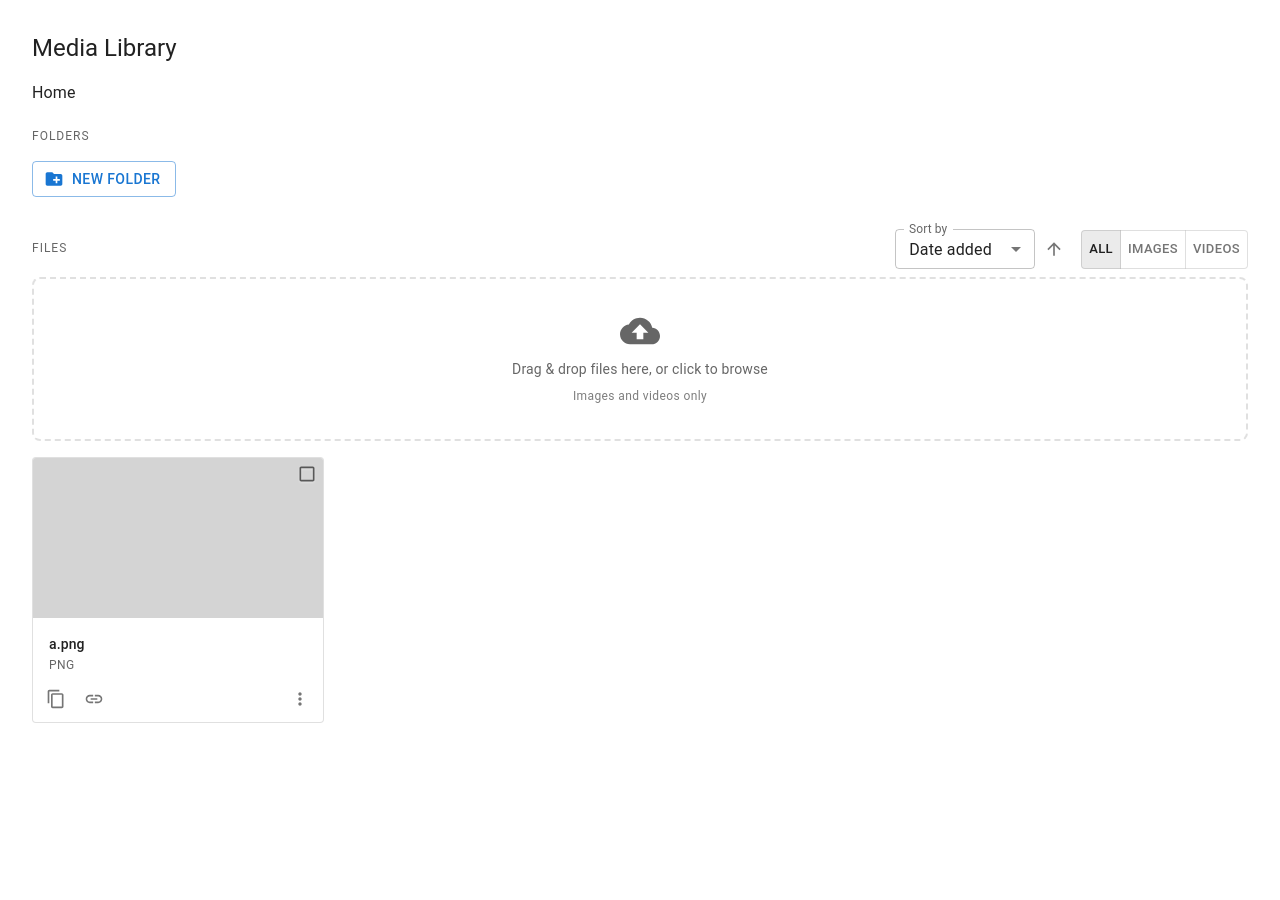
MediaPage › opens the delete confirmation dialog for a file from the more menu
Expected: the heading "a.png" is shown, [49,636,85,652]
Click the button named "More actions": (300, 699) [285,684,315,714]
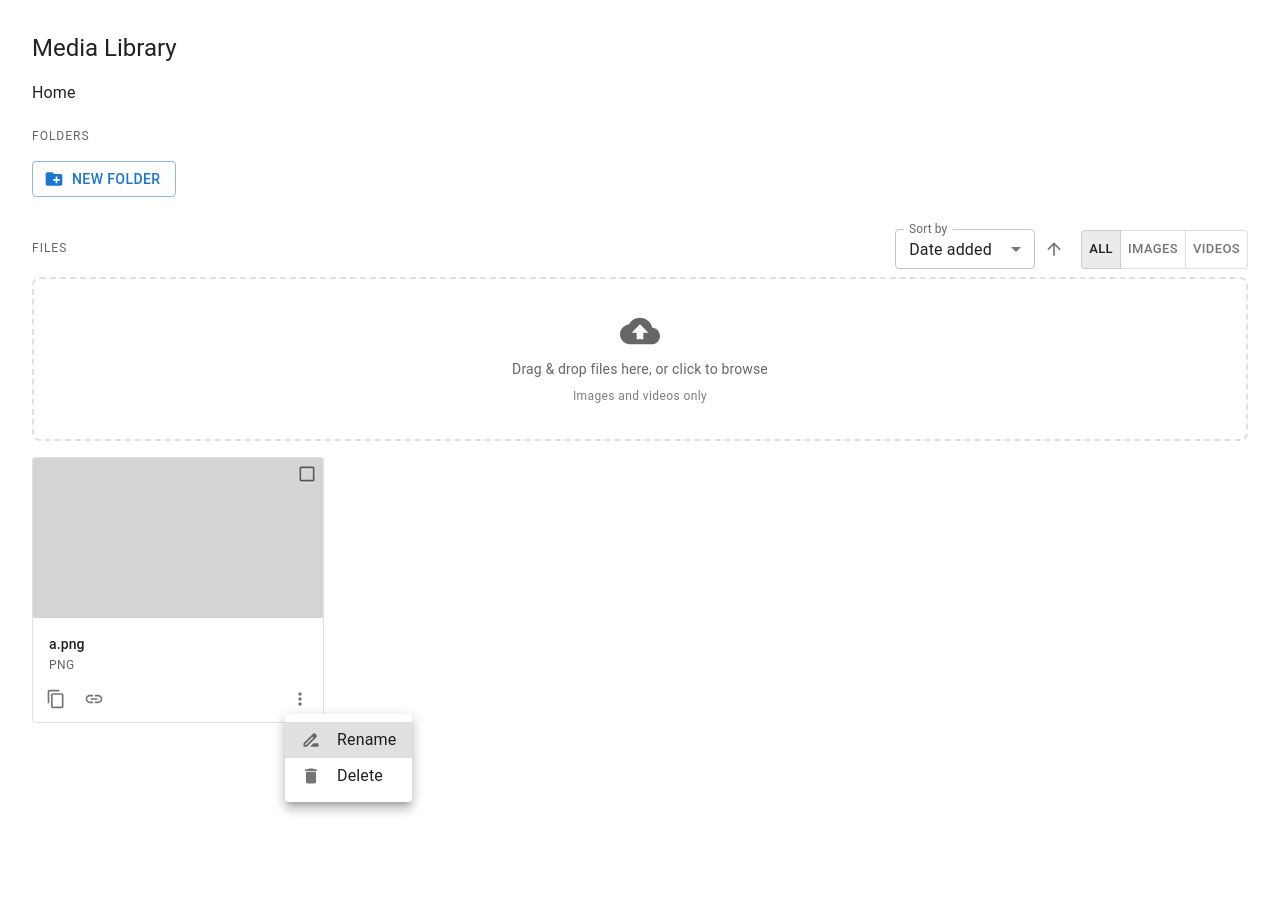
Click the menu item "Delete": (342, 776) [301,766,383,786]
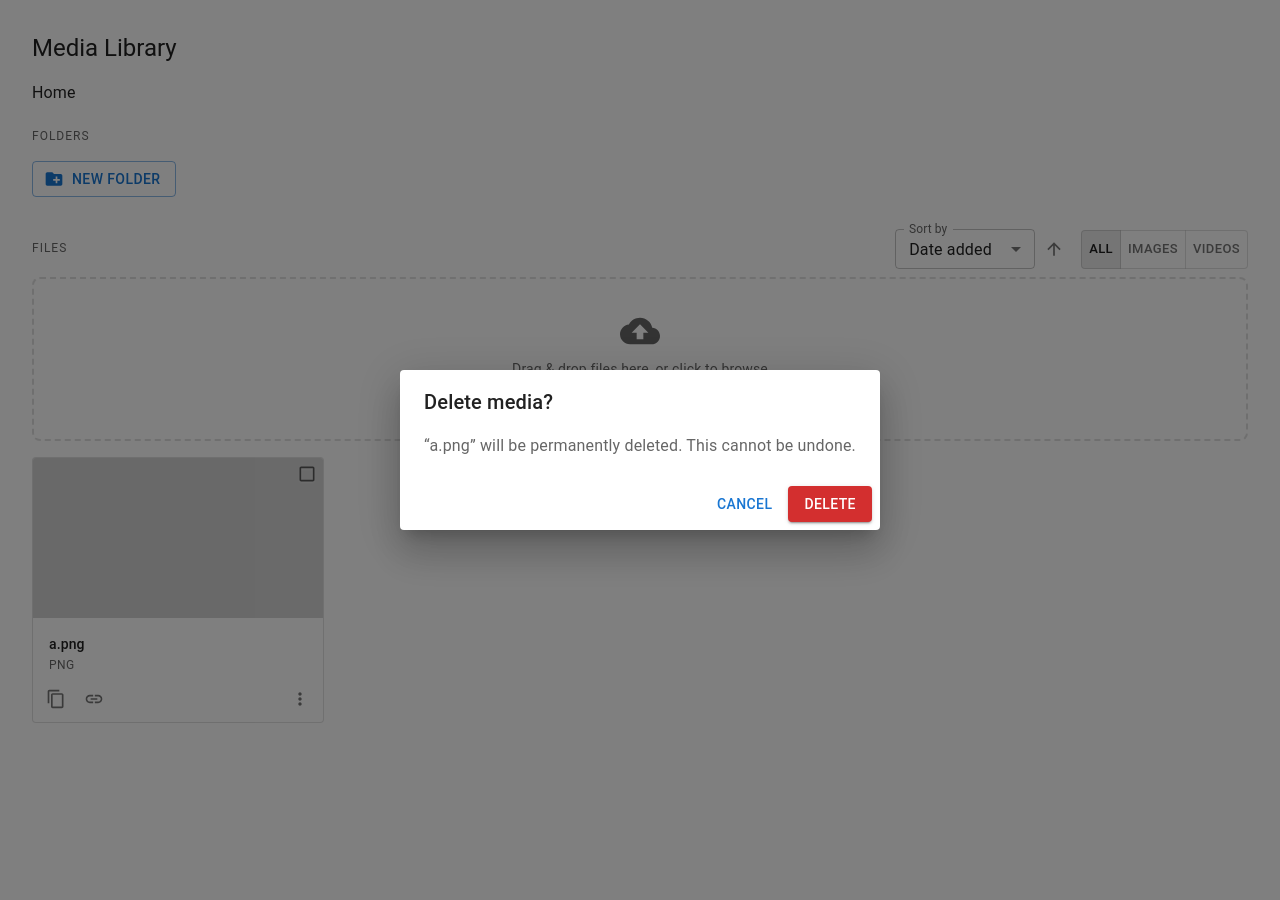
Expected: the heading "Delete media?" is shown, [424,390,553,414]
